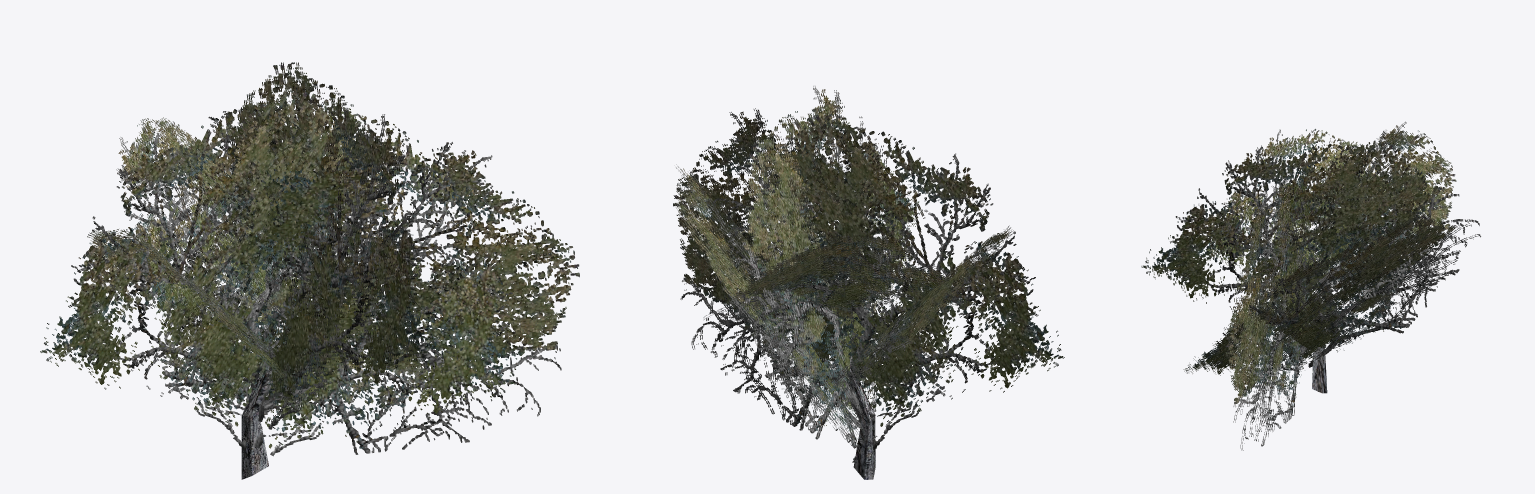
Rendered from Bush1.fbx.
3 renders of one model, left to right at view 1: azimuth 30°, elevation 25°; view 2: azimuth 150°, elevation 25°; view 3: azimuth 270°, elevation 25°, orthographic. The views are drawn at different scales.
Parts seen in each view (by area): view 1: Rectangle01, kmen01; view 2: Rectangle01, kmen01; view 3: Rectangle01, kmen01.
Boxes of the visible parts, x1,y1,x2,y2 form: Rectangle01: (40, 62, 579, 456); kmen01: (241, 354, 272, 479); Rectangle01: (673, 86, 1064, 462); kmen01: (848, 356, 875, 479); Rectangle01: (1141, 121, 1480, 450); kmen01: (1312, 312, 1327, 393).
Size of the model in its own units: 260 by 223 by 228.
